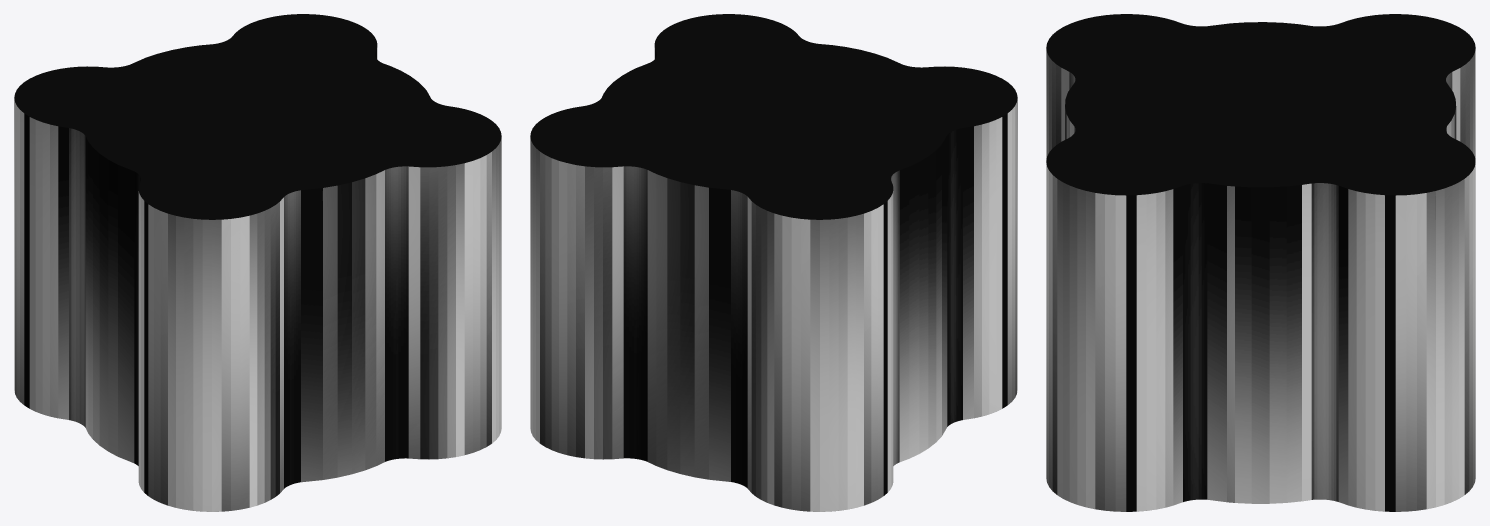
The model's file is backBuilding.glb.
3 views of the same model, side by side, from view 1: azimuth 30°, elevation 25°; view 2: azimuth 150°, elevation 25°; view 3: azimuth 270°, elevation 25° (orthographic). The views are drawn at different scales.
Visible parts, largest first — view 1: Curve; view 2: Curve; view 3: Curve.
Boxes of the visible parts, x1,y1,x2,y2 form: Curve: (14,14,501,511); Curve: (530,14,1017,511); Curve: (1046,14,1475,511).
Size of the model in its own units: 1.03 by 0.8398 by 1.03.
2 materials, 2 textured.
